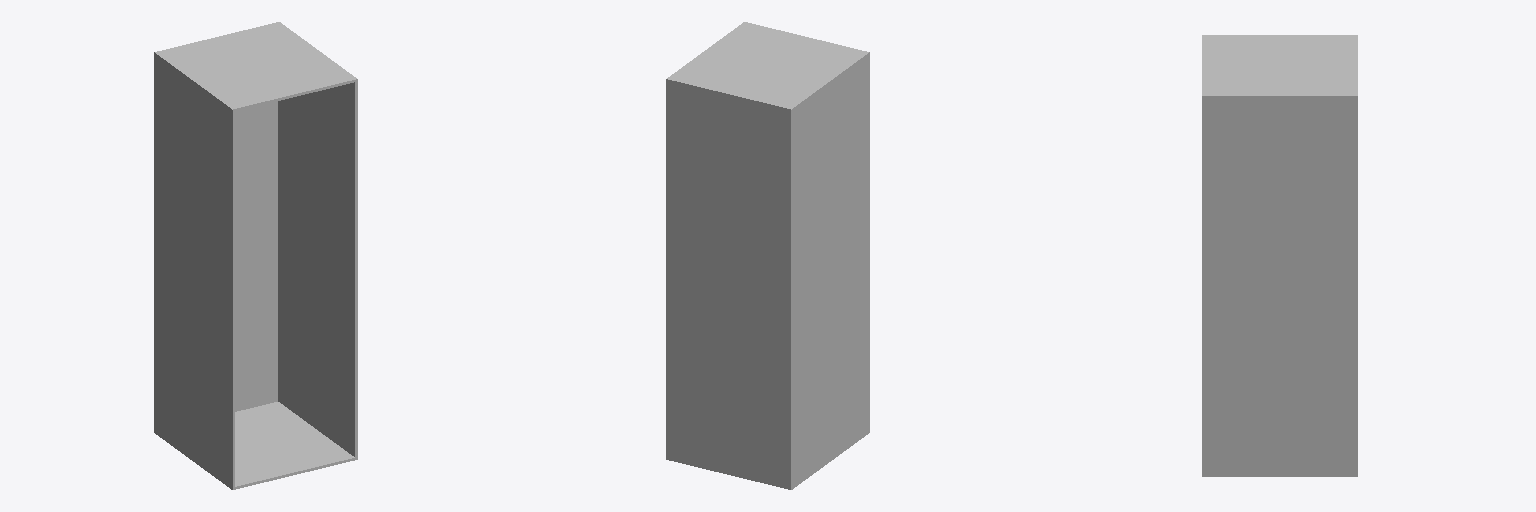
The model's file is file_cabinet_small_open.obj.
The picture shows the model from 3 angles: view 1: azimuth 30°, elevation 25°; view 2: azimuth 150°, elevation 25°; view 3: azimuth 270°, elevation 25°; orthographic projection.
Visible parts, largest first — view 1: file_cabinet_small_open; view 2: file_cabinet_small_open; view 3: file_cabinet_small_open.
Part boxes in pixels (x1,y1,x2,y2): file_cabinet_small_open: (154,22,357,489); file_cabinet_small_open: (666,22,869,489); file_cabinet_small_open: (1202,35,1357,476).
Size of the model in its own units: 0.4847 by 1.41 by 0.5246.